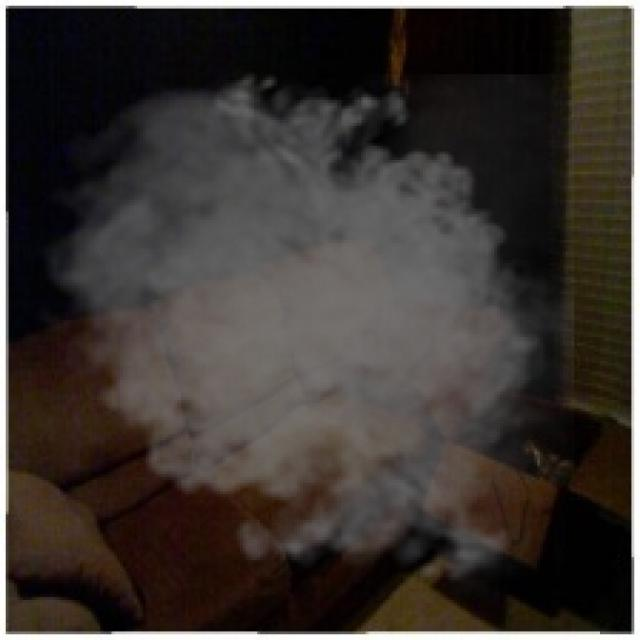smoke: (23, 63, 574, 597)
